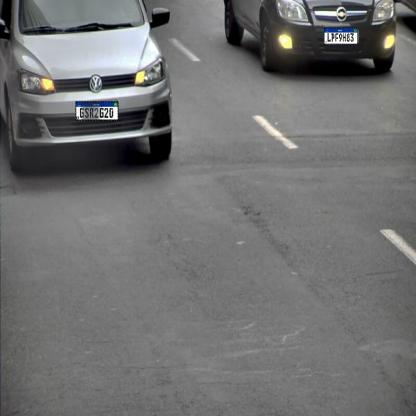PlacaM: (76, 101, 118, 121), (324, 28, 358, 44)
